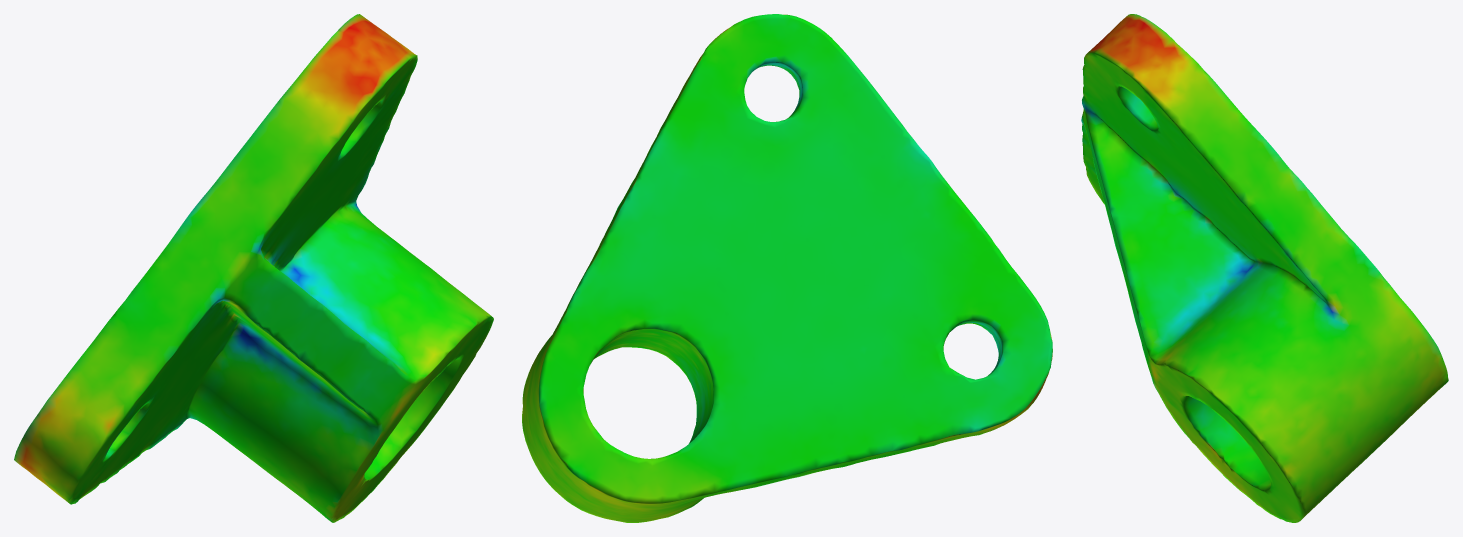
Rendered from all=0.000772-hole=0.002560-mgcn-wo-refine.obj.
3 renders of one model, left to right at view 1: azimuth 30°, elevation 25°; view 2: azimuth 150°, elevation 25°; view 3: azimuth 270°, elevation 25°, orthographic. The views are drawn at different scales.
Size of the model in its own units: 61.29 by 61.13 by 44.2.
